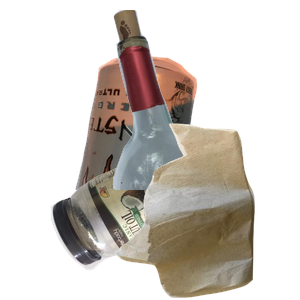glass: (89, 10, 300, 190)
metal: (73, 52, 263, 232)
plastic: (48, 152, 228, 300)
trash: (114, 121, 300, 300)
